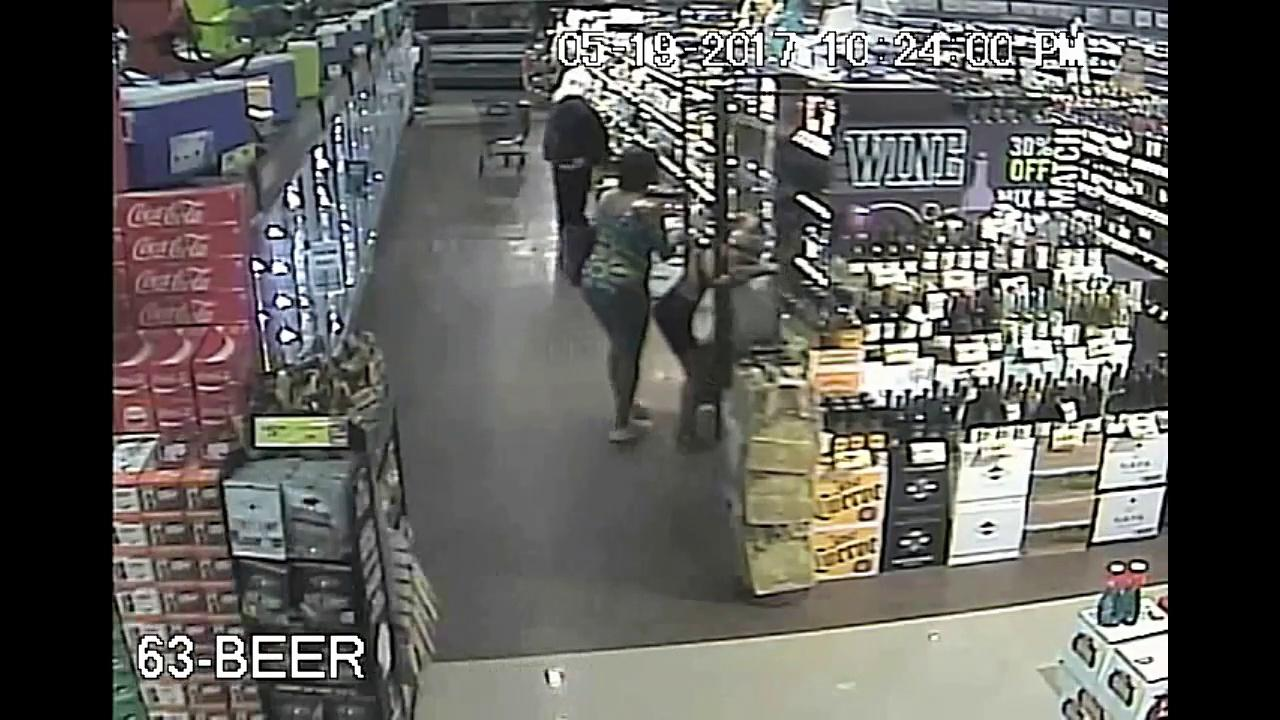Customer-Bagpack: (710, 286, 787, 347), (556, 204, 601, 286)
Regular: (556, 137, 674, 437), (533, 64, 611, 180)
Shoplifting: (670, 206, 821, 434)
